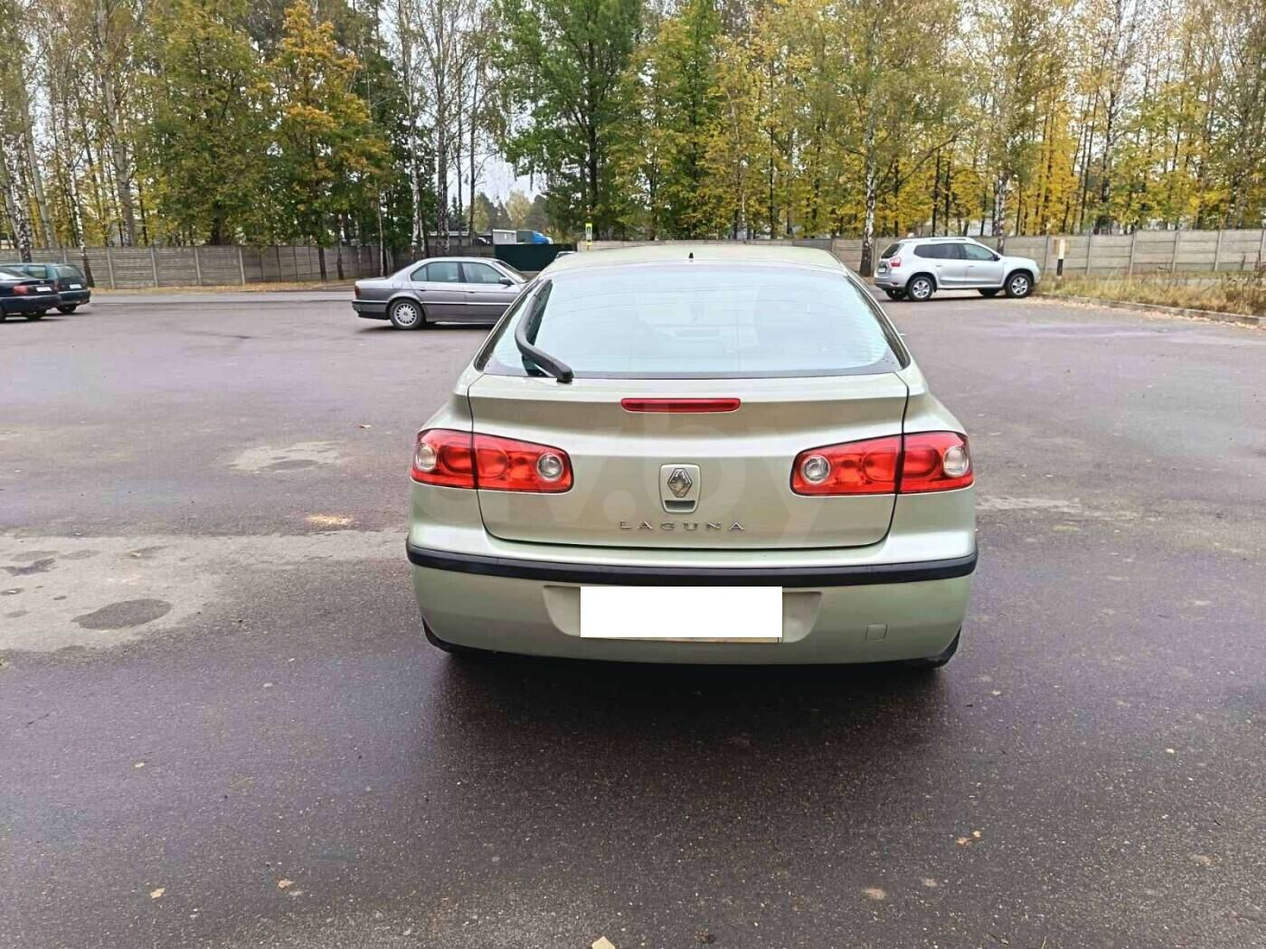Laguna_2005-2007: (407, 236, 990, 696)
